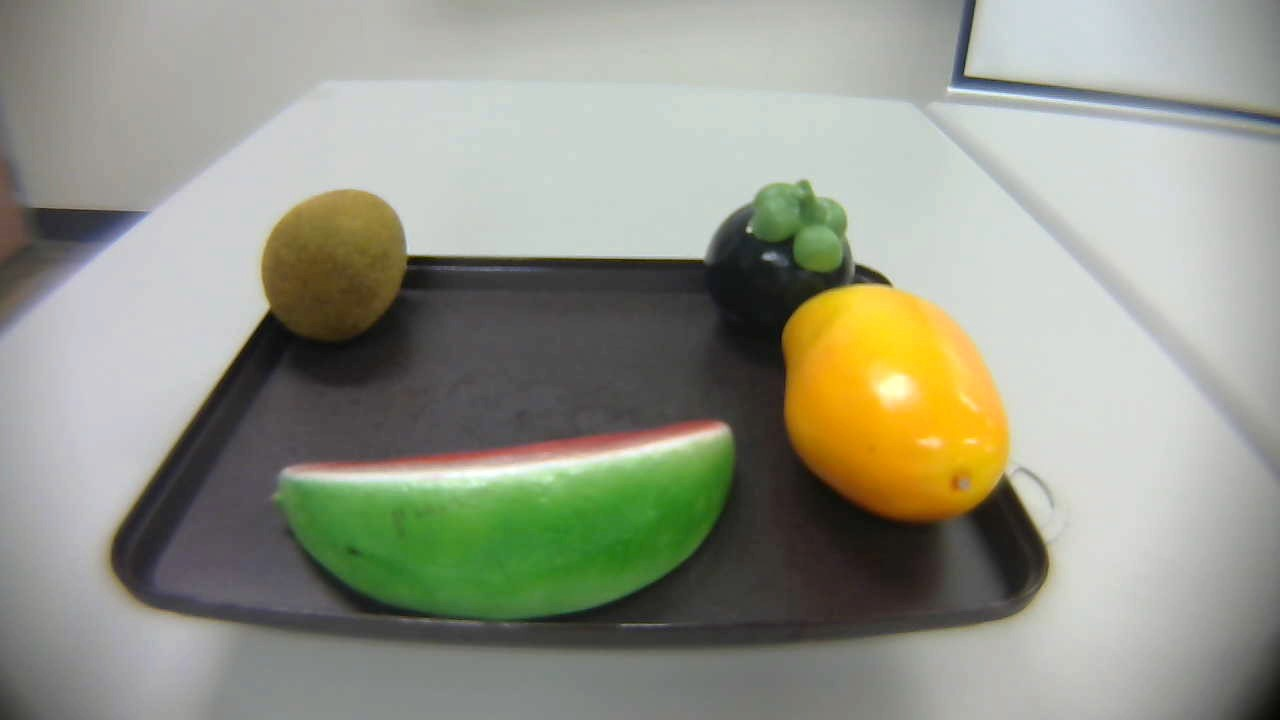kiwi fruit: (245, 186, 415, 334)
mangosteen: (697, 168, 863, 334)
water melon: (255, 419, 740, 624)
yellow mango: (772, 271, 1023, 538)
